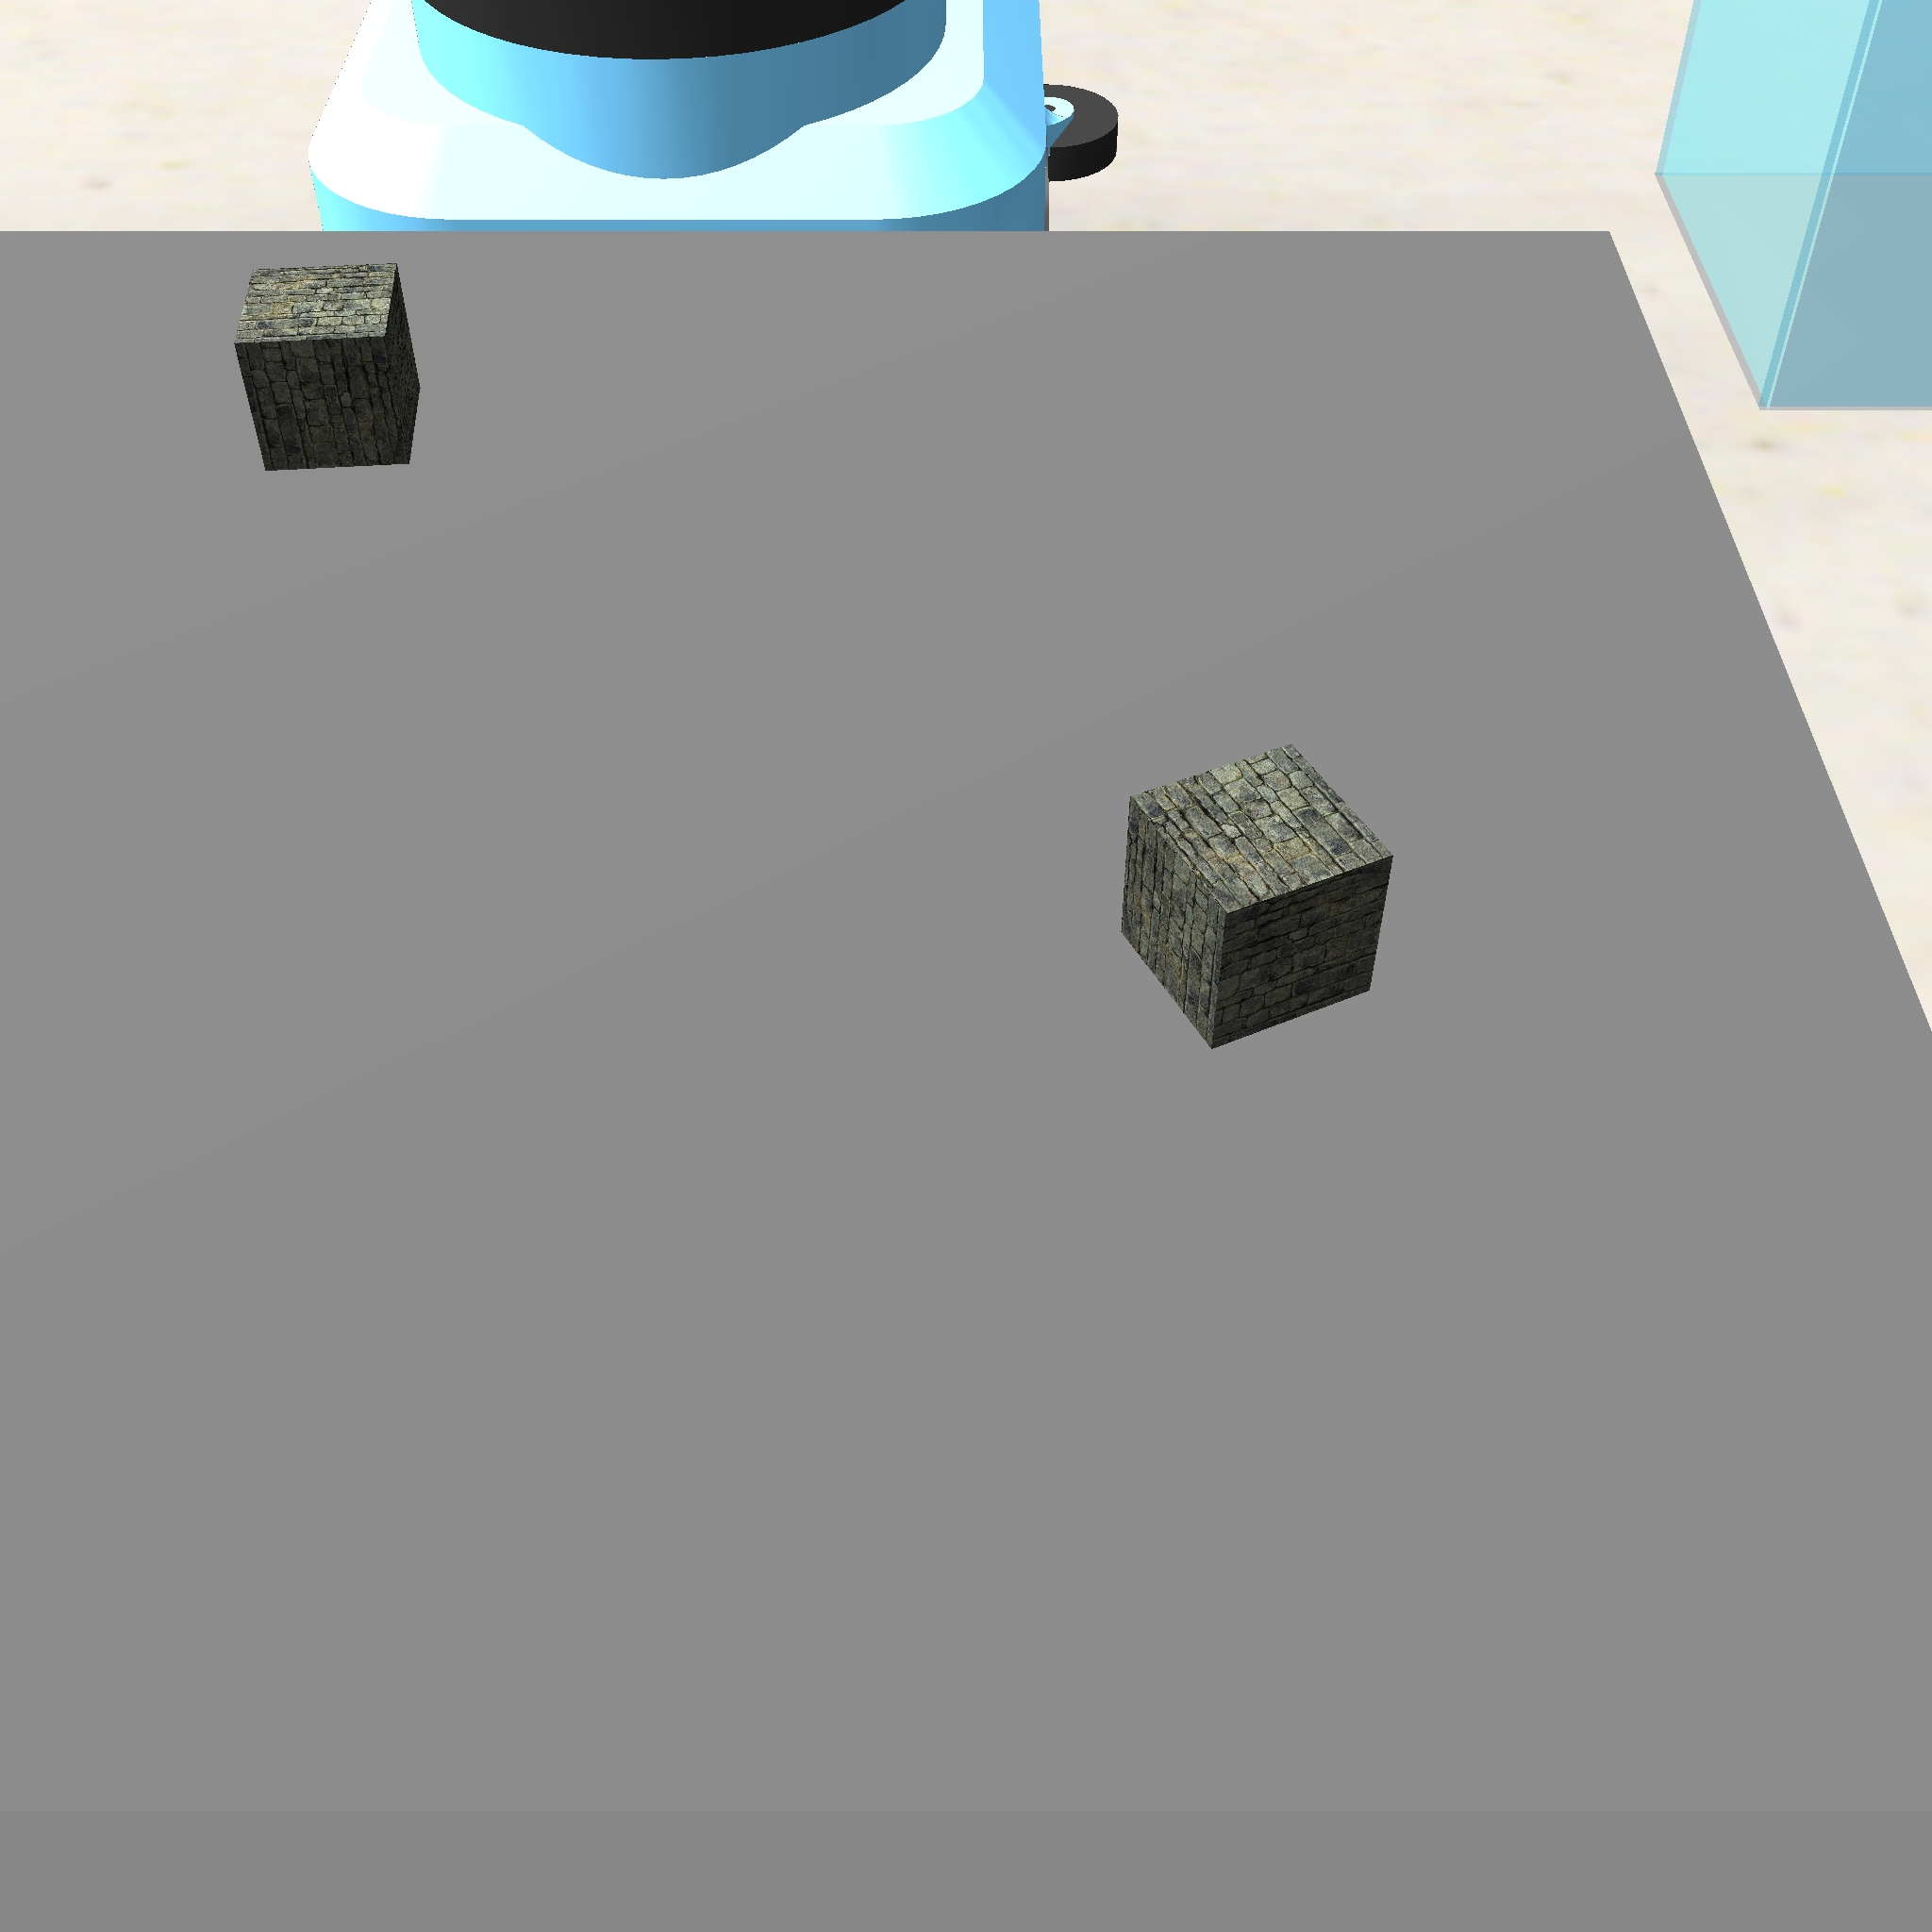cube: (1113, 734, 1408, 1060), (232, 257, 433, 479)
